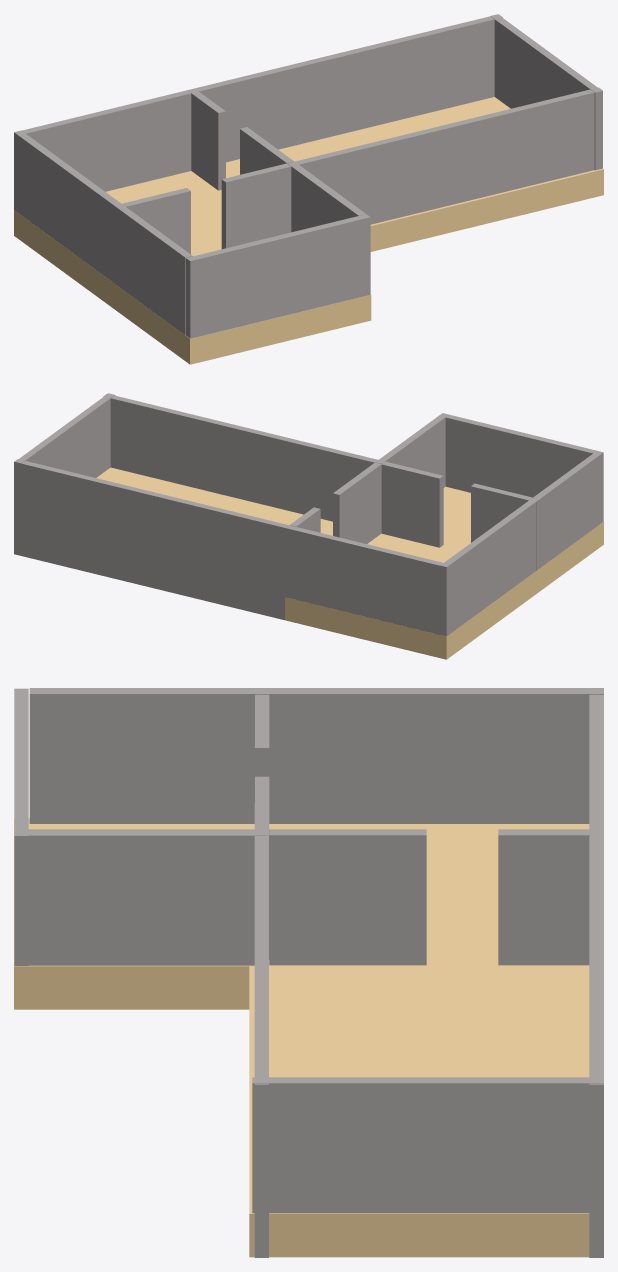
Rendered from blenderApartment.glb.
3 views of the same model, one above another, from view 1: azimuth 30°, elevation 25°; view 2: azimuth 150°, elevation 25°; view 3: azimuth 270°, elevation 25° (orthographic). The views are drawn at different scales.
Visible parts, largest first — view 1: WALL.011, WALL.012, WALL.007, WALL.001, WALL.010, WALL.003, WALL.006, WALL, WALL.013, WALL.002, WALL.008, WALL.005 (+2 smaller); view 2: WALL.011, WALL.012, WALL.003, WALL.001, WALL.007, WALL.006, WALL, WALL.013, WALL.005, WALL.009, WALL.010, WALL.008 (+2 smaller); view 3: WALL.010, WALL.013, WALL.006, WALL.008, WALL, WALL.001, WALL.009, WALL.002, WALL.012, WALL.011, WALL.007, WALL.003 (+2 smaller).
Boxes of the visible parts, <box> form: WALL.011: <box>154,14,502,177</box>; WALL.012: <box>254,87,602,240</box>; WALL.007: <box>186,214,370,338</box>; WALL.001: <box>14,171,371,364</box>; WALL.010: <box>226,97,603,251</box>; WALL.003: <box>22,89,195,191</box>; WALL.006: <box>14,130,120,282</box>; WALL: <box>114,203,192,335</box>; WALL.013: <box>490,14,602,170</box>; WALL.002: <box>191,91,225,190</box>; WALL.008: <box>287,161,365,232</box>; WALL.005: <box>221,163,290,249</box>; WALL.011: <box>14,459,322,620</box>; WALL.012: <box>103,393,393,521</box>; WALL.003: <box>285,525,442,634</box>; WALL.001: <box>285,486,603,659</box>; WALL.007: <box>439,413,603,523</box>; WALL.006: <box>440,498,539,636</box>; WALL: <box>530,453,599,570</box>; WALL.013: <box>15,393,115,532</box>; WALL.005: <box>381,461,443,547</box>; WALL.009: <box>333,462,381,543</box>; WALL.010: <box>96,467,332,535</box>; WALL.008: <box>375,415,445,487</box>; WALL.010: <box>249,965,589,1257</box>; WALL.013: <box>252,1077,603,1213</box>; WALL.006: <box>252,688,603,823</box>; WALL.008: <box>28,829,267,965</box>; WALL: <box>29,688,268,823</box>; WALL.001: <box>14,818,589,1009</box>; WALL.009: <box>269,829,426,965</box>; WALL.002: <box>498,829,589,965</box>; WALL.012: <box>254,803,268,1257</box>; WALL.011: <box>589,811,603,1257</box>; WALL.007: <box>14,688,28,965</box>; WALL.003: <box>589,694,603,835</box>.
Size of the model in its own units: 39.21 by 8.02 by 24.68.
